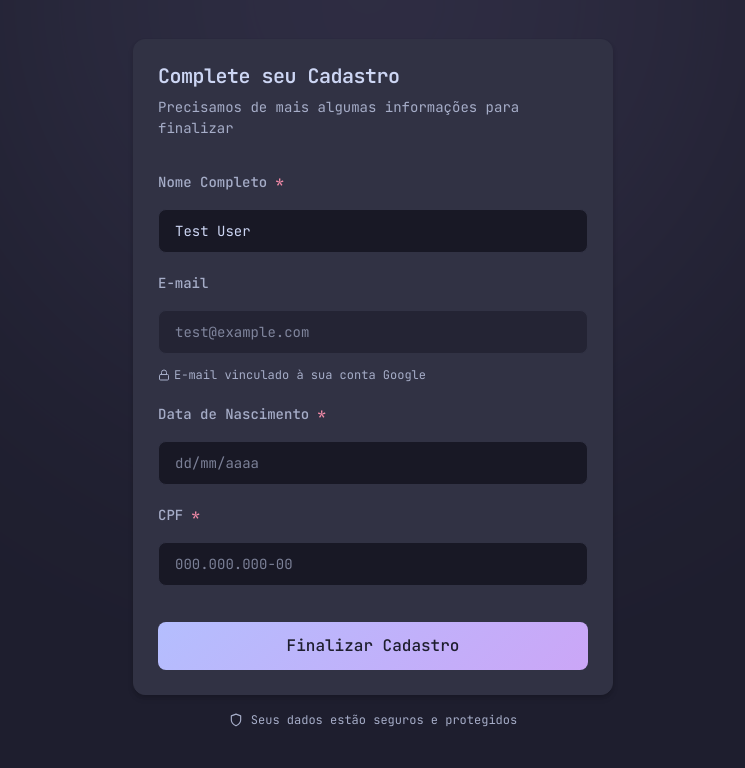
Test: RegisterCompleteView › tratamento de erros › deve exibir mensagem padrão quando sem detalhes
Replace the text in the field with id "name" with "Test" at (373, 231), box x1=158 y1=209 x2=588 y2=253
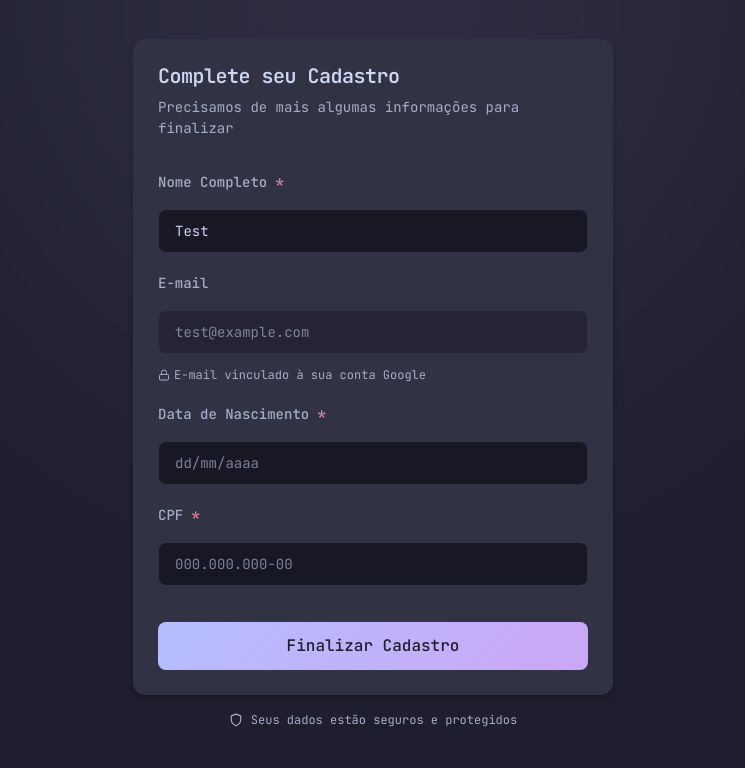
Type "15/05/1990" into the field with id "birth_date".
click(373, 463); type("15/05/1990")  # box x1=158 y1=441 x2=588 y2=485
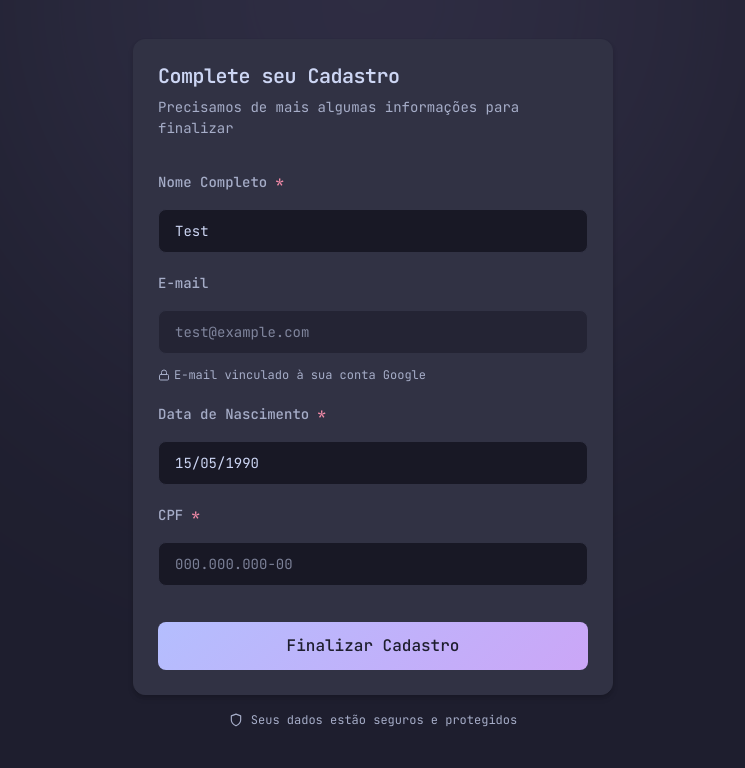
Type "123.456.789-00" into the field with id "cpf".
click(373, 564); type("123.456.789-00")  # box x1=158 y1=542 x2=588 y2=586
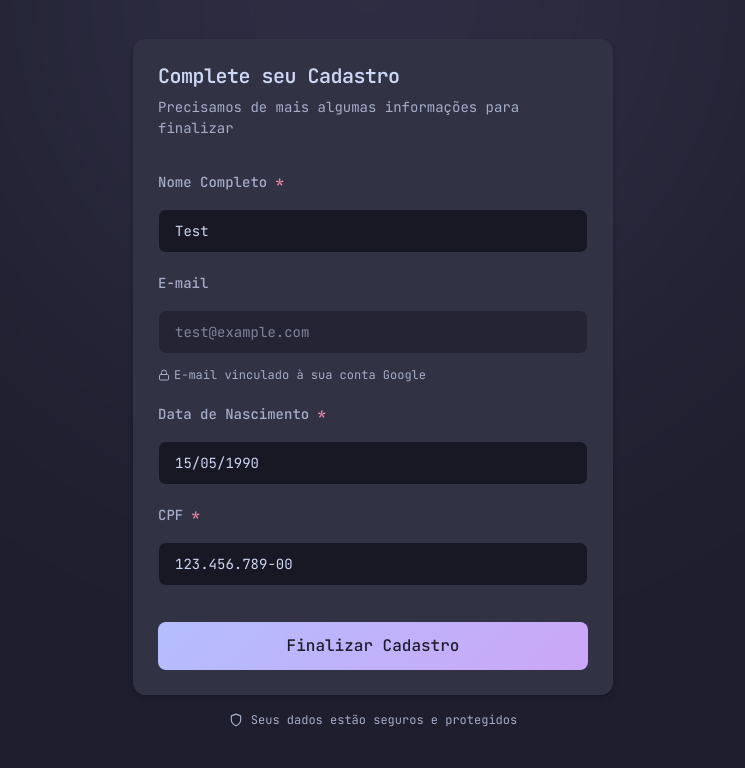
Submit the form, box x1=158 y1=172 x2=588 y2=670
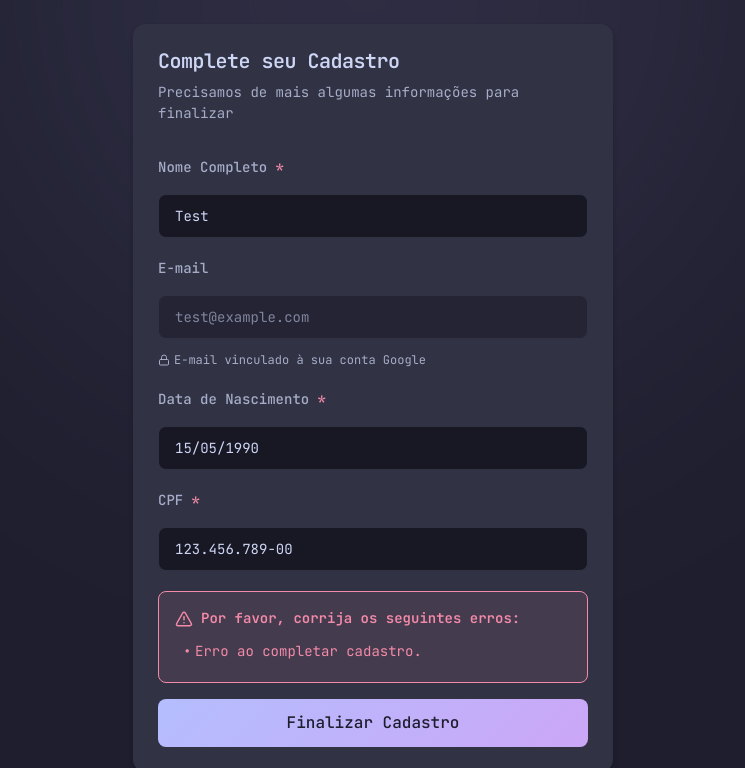
Expected: the text "Erro ao completar cadastro" is shown, x1=195 y1=642 x2=422 y2=660
